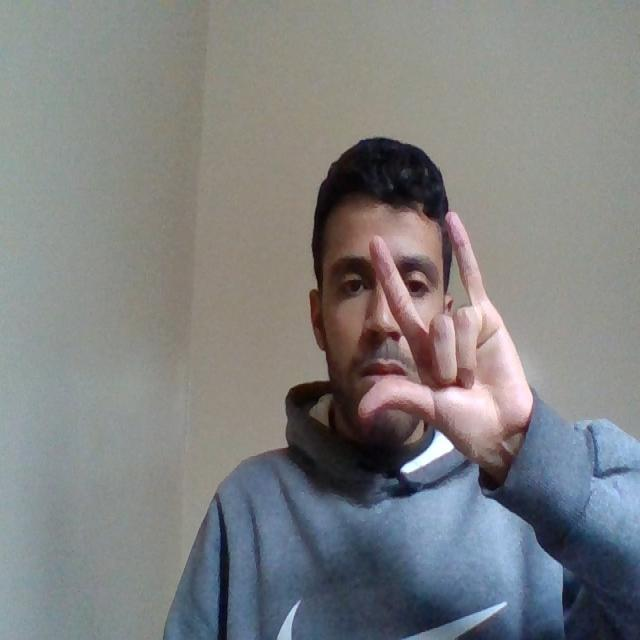I Love You: (355, 206, 542, 470)
